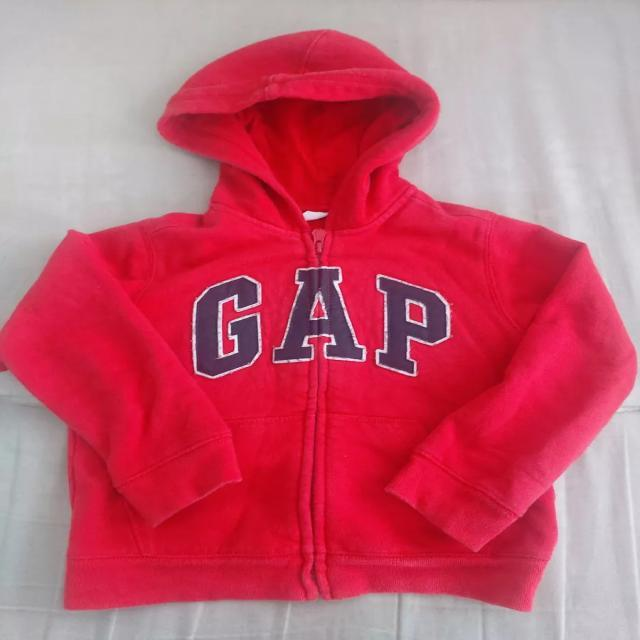sweater: (0, 27, 640, 615)
